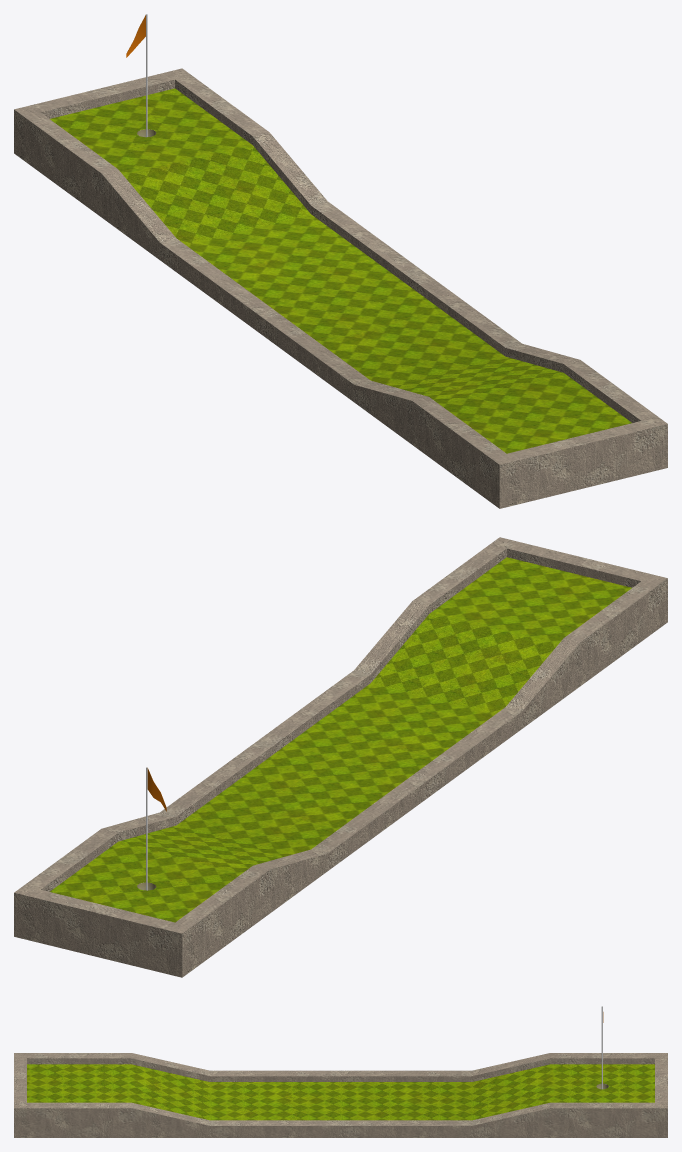
The model's file is course4_hole2.fbx.
3 renders of one model, top to bottom at view 1: azimuth 30°, elevation 25°; view 2: azimuth 150°, elevation 25°; view 3: azimuth 270°, elevation 25°, orthographic. The views are drawn at different scales.
Parts seen in each view (by area): view 1: course4_hole2_ground, course4_hole2_walls; view 2: course4_hole2_ground, course4_hole2_walls; view 3: course4_hole2_walls, course4_hole2_ground.
Boxes of the visible parts, x1=… form: course4_hole2_ground: x1=50, y1=88, x2=631, y2=453; course4_hole2_walls: x1=14, y1=68, x2=667, y2=508; course4_hole2_ground: x1=50, y1=557, x2=631, y2=922; course4_hole2_walls: x1=14, y1=537, x2=667, y2=977; course4_hole2_walls: x1=14, y1=1053, x2=667, y2=1137; course4_hole2_ground: x1=27, y1=1064, x2=654, y2=1120.
Size of the model in its own units: 100 by 87.54 by 500.
